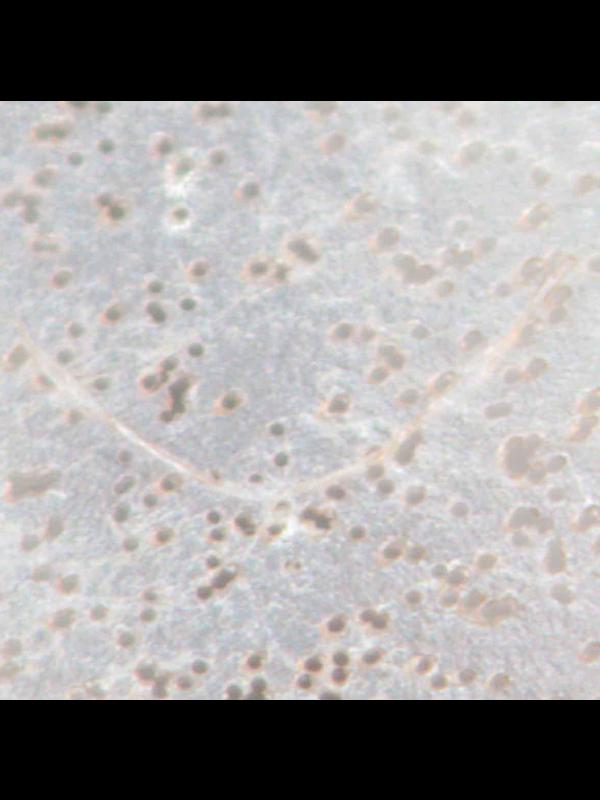microplastic: (0, 100, 600, 700)
